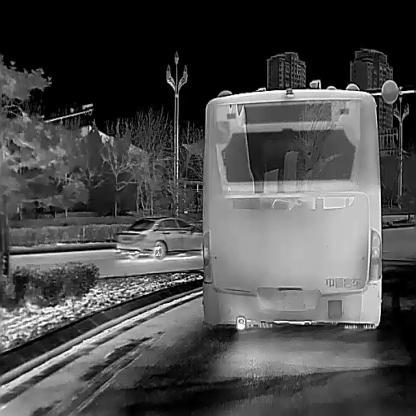car: (201, 86, 381, 332), (114, 214, 211, 259)
